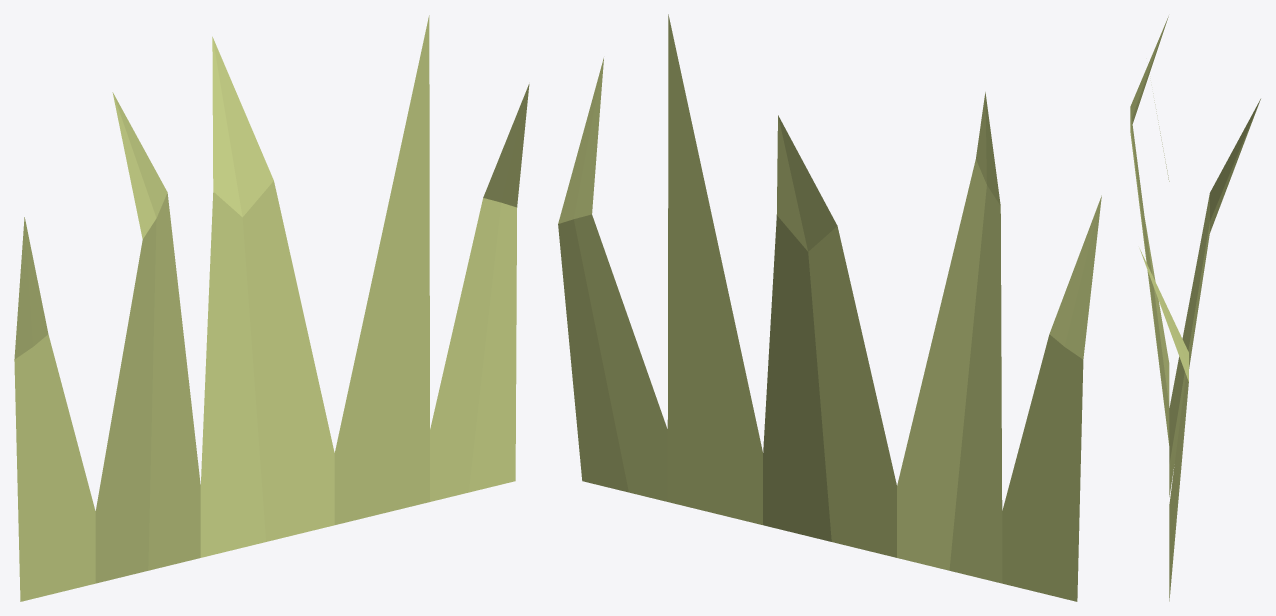
The model's file is Trawa3.fbx.
The picture shows the model from 3 angles, left to right: view 1: azimuth 30°, elevation 25°; view 2: azimuth 150°, elevation 25°; view 3: azimuth 270°, elevation 25°; orthographic projection. The views are drawn at different scales.
Visible parts, largest first — view 1: Trawa3; view 2: Trawa3; view 3: Trawa3.
Part boxes in pixels (x1,y1,x2,y2): Trawa3: [14, 15, 529, 601]; Trawa3: [558, 14, 1101, 601]; Trawa3: [1130, 16, 1260, 601].
Size of the model in its own units: 35.5 by 31.96 by 9.08.
